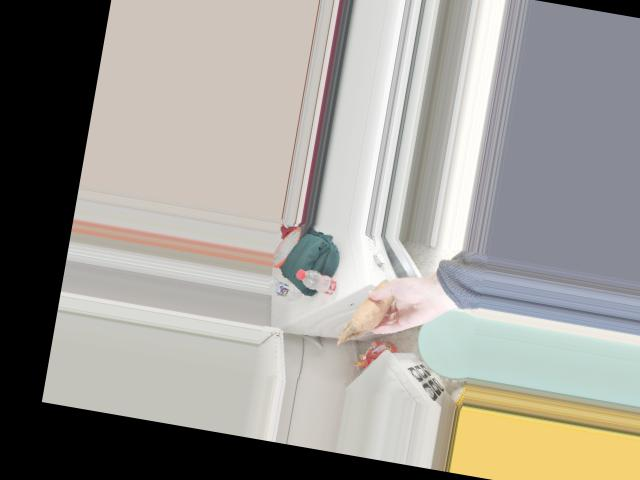sweet_potato: (349, 281, 401, 334)
